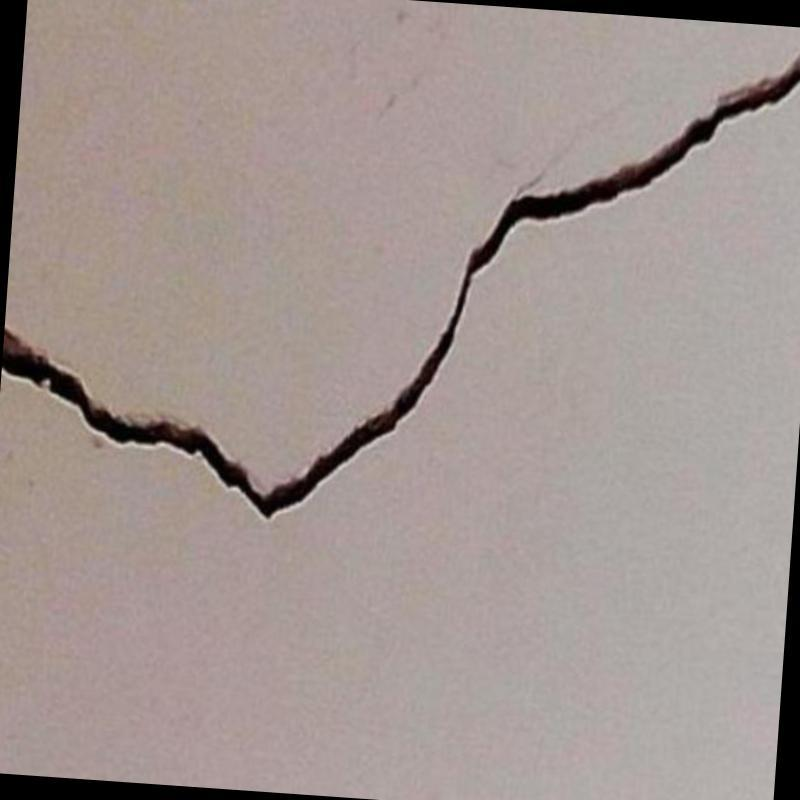crack: (1, 54, 800, 516)
